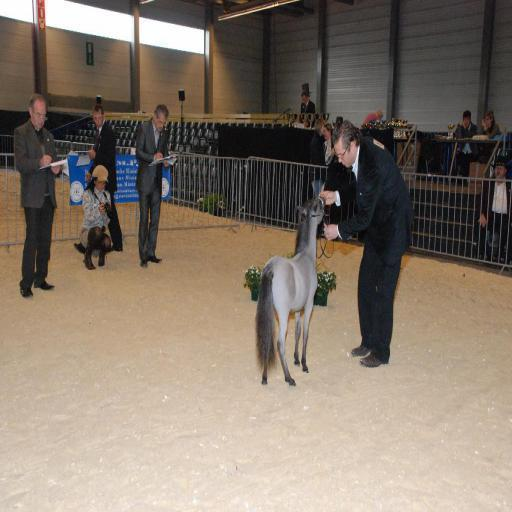horse: (255, 198, 327, 388)
